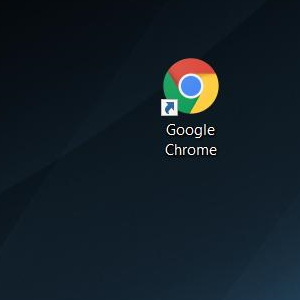chrome: (160, 57, 219, 117)
